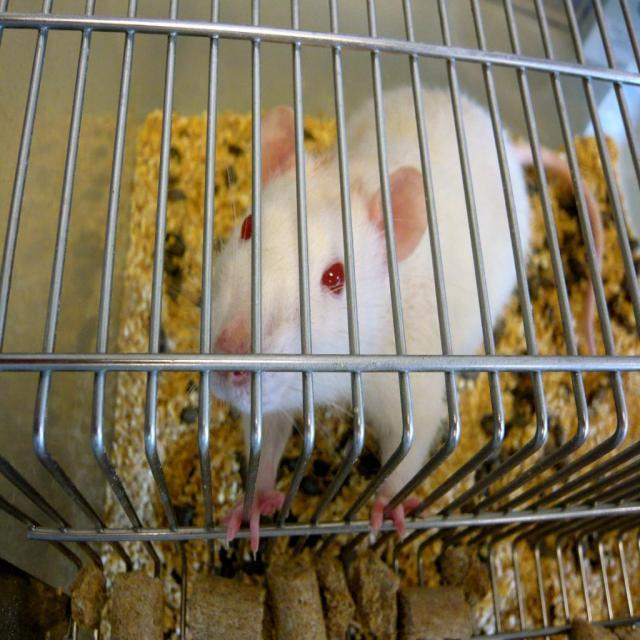rat: (197, 86, 536, 556)
